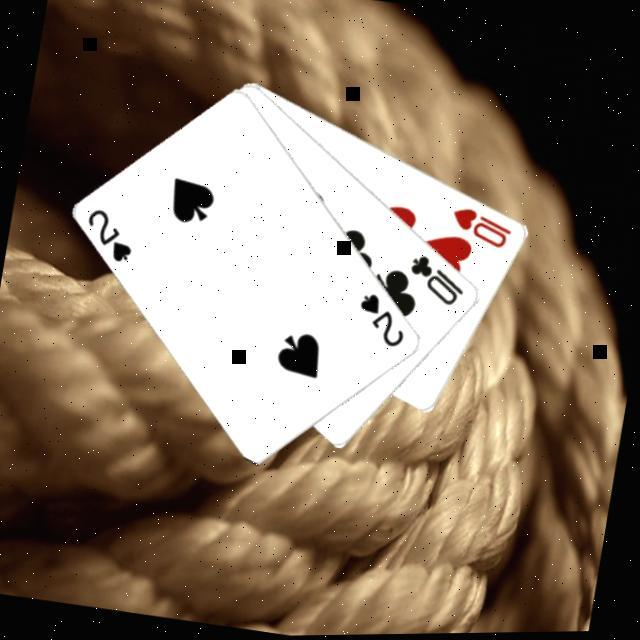10C: (402, 248, 471, 310)
10H: (444, 200, 516, 253)
2S: (349, 287, 413, 352), (77, 201, 140, 266)
